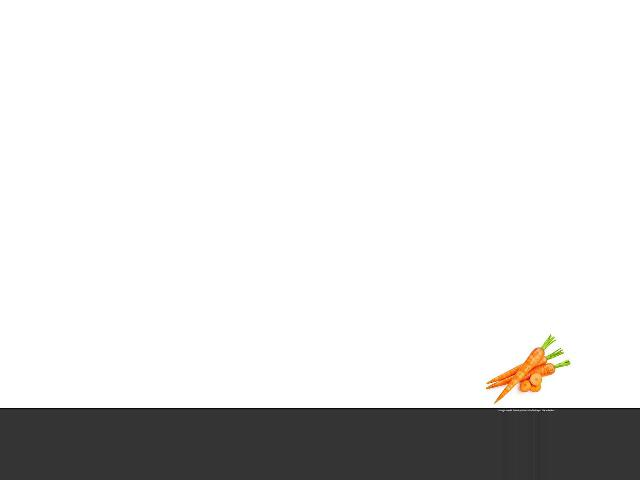carrot: (483, 354, 561, 386)
